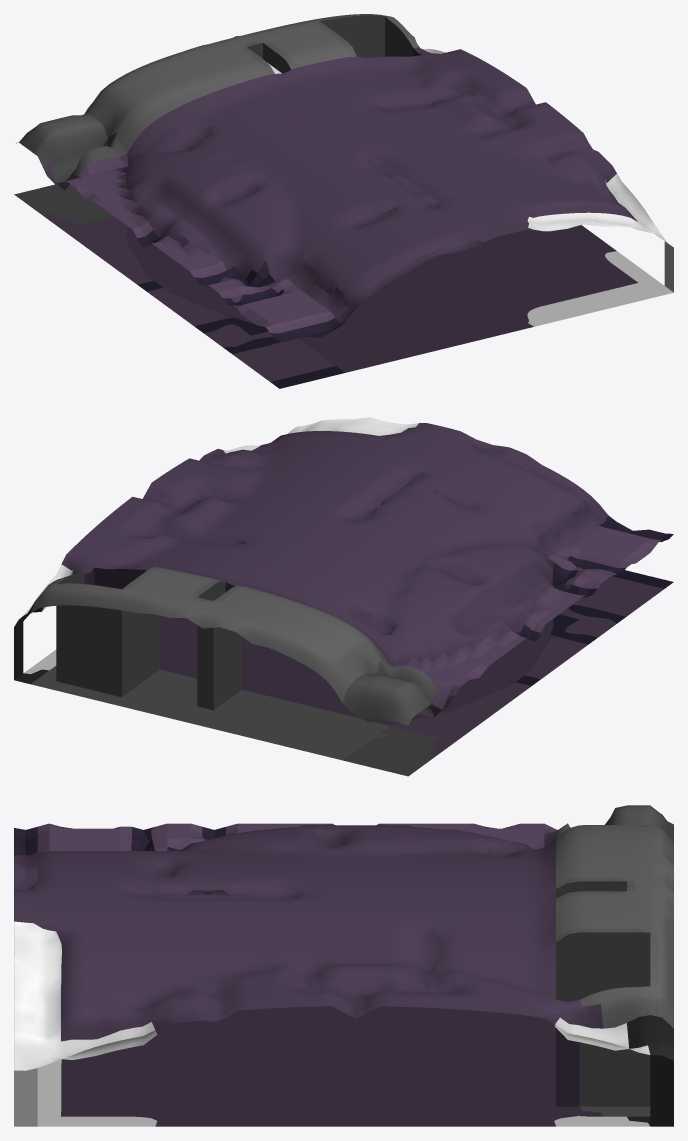
Rendered from delbld-hull-594.glb.
3 views of the same model, one above another, from view 1: azimuth 30°, elevation 25°; view 2: azimuth 150°, elevation 25°; view 3: azimuth 270°, elevation 25° (orthographic). The views are drawn at different scales.
Parts seen in each view (by area): view 1: delbld-hull-594; view 2: delbld-hull-594; view 3: delbld-hull-594.
Boxes of the visible parts, x1=… form: delbld-hull-594: x1=14, y1=14, x2=673, y2=388; delbld-hull-594: x1=14, y1=417, x2=673, y2=776; delbld-hull-594: x1=14, y1=805, x2=673, y2=1126.
Size of the model in its own units: 2 by 0.5302 by 2.33.
Materials: 8 (8 with a texture image).
